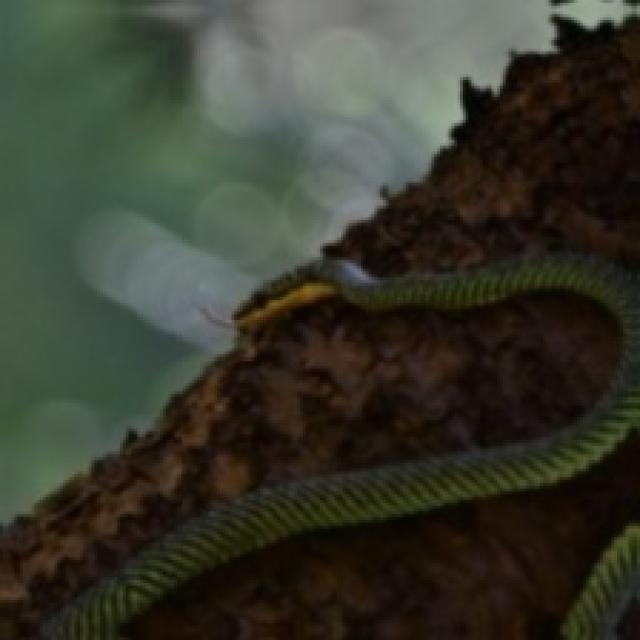paradise tree snake: (3, 263, 637, 637)
